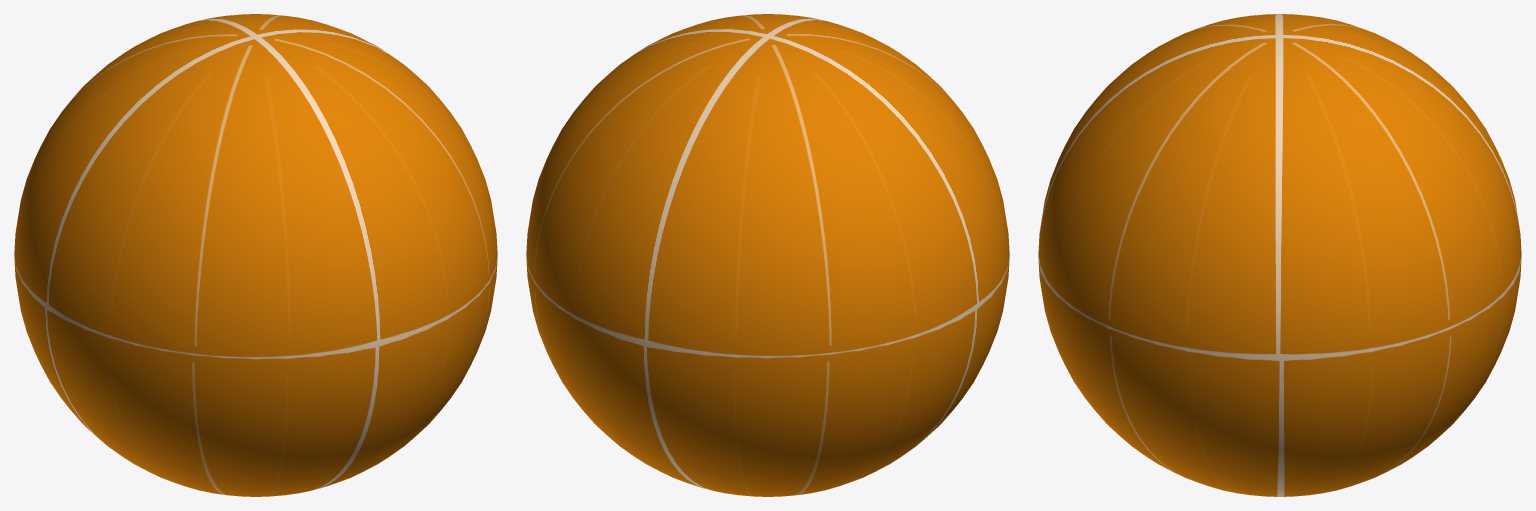
3 renders of one model, left to right at view 1: azimuth 30°, elevation 25°; view 2: azimuth 150°, elevation 25°; view 3: azimuth 270°, elevation 25°, orthographic.
Parts seen in each view (by area): view 1: Sphere_HQ_Sphere.002; view 2: Sphere_HQ_Sphere.002; view 3: Sphere_HQ_Sphere.002.
Part boxes in pixels (x1,y1,x2,y2): Sphere_HQ_Sphere.002: [14, 14, 497, 496]; Sphere_HQ_Sphere.002: [526, 14, 1009, 496]; Sphere_HQ_Sphere.002: [1038, 14, 1521, 496].
Bounding box in the file's own units: 1 × 1 × 1.
1 material, 1 textured.
